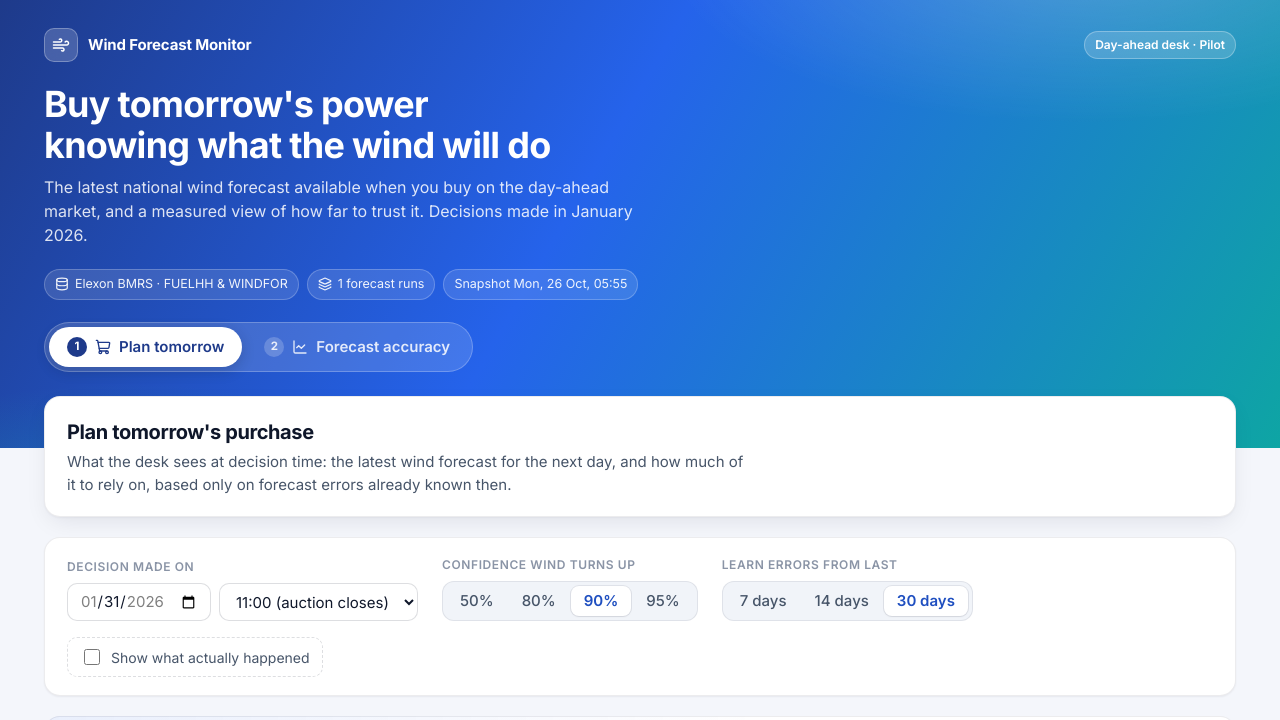
App › reveals the lead-time slider and refetches in horizon mode
Click the tab "2 Forecast accuracy": (357, 347) [246,326,468,367]
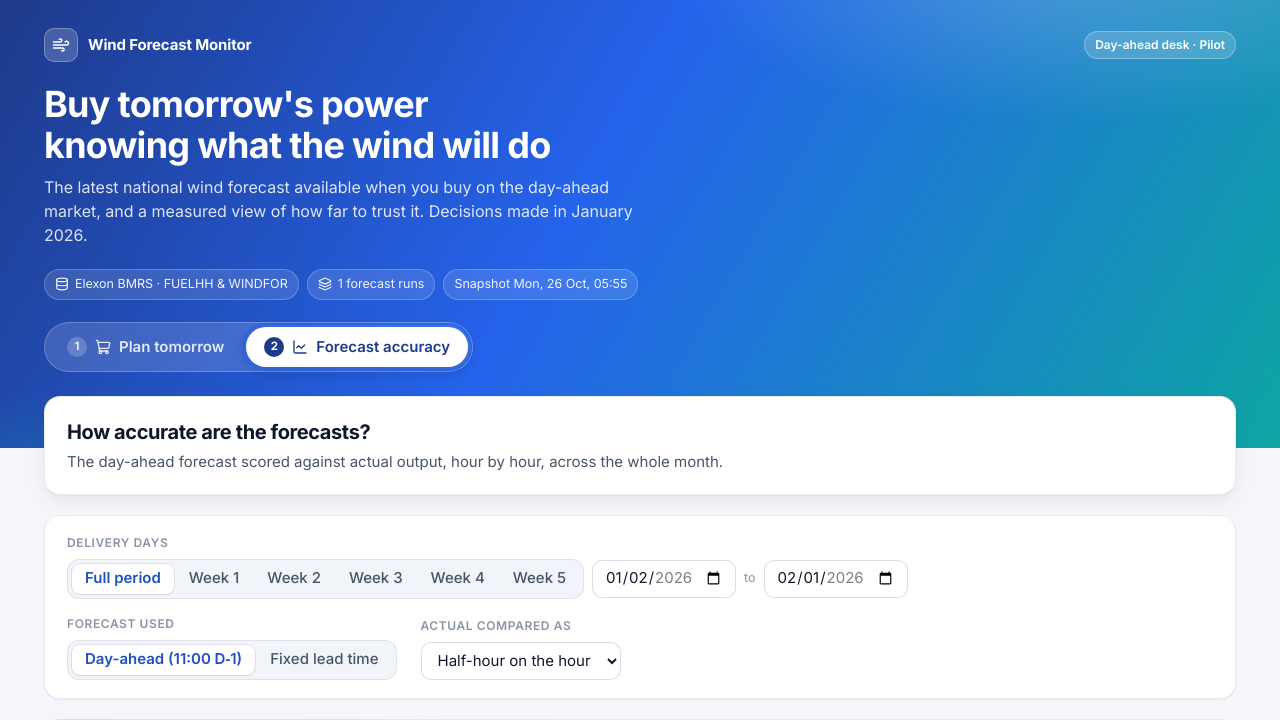
Expected: the field labelled "Published at least" is not shown
Click the button "Fixed lead time": (324, 660) [257,644,392,674]
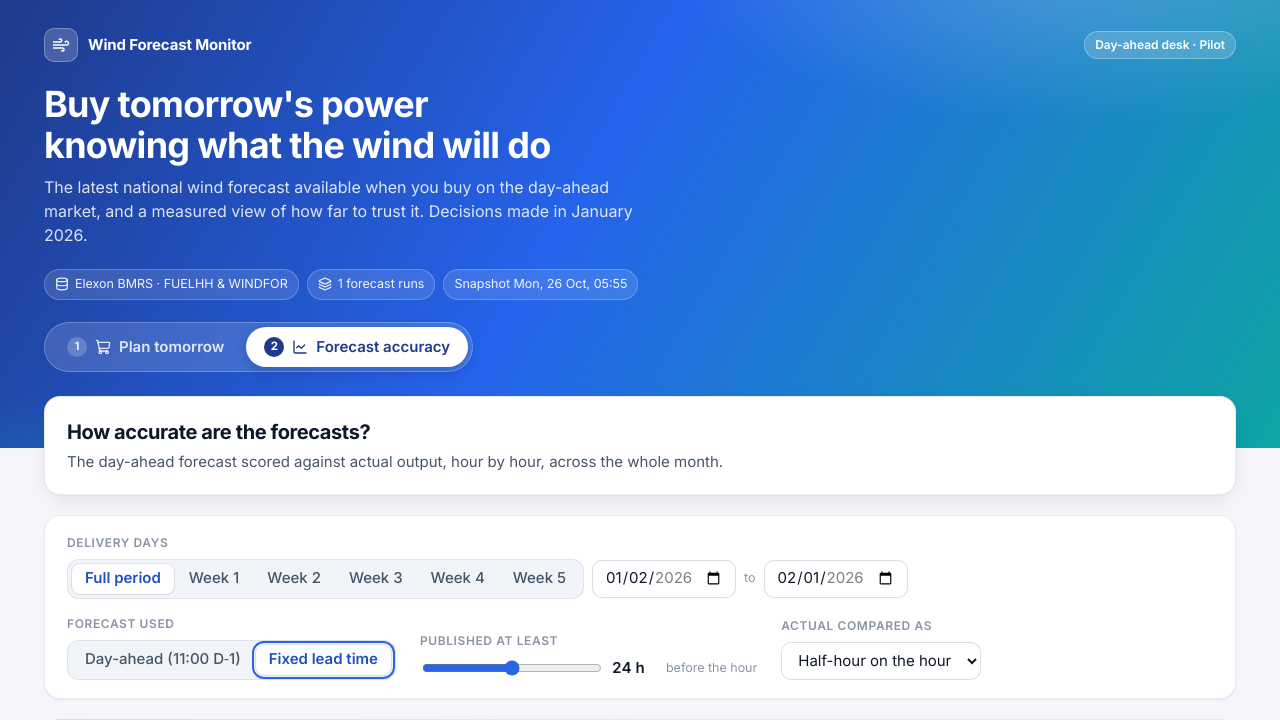
Result: the slider labelled "Published at least" is shown at [422,660,602,676]
